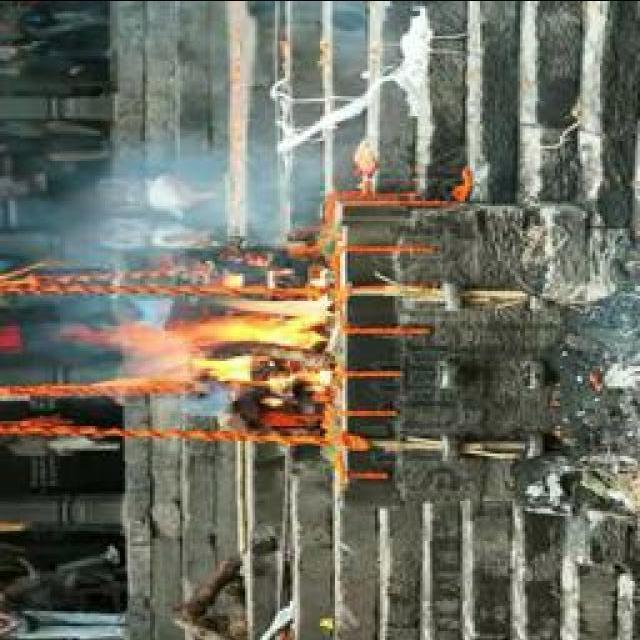Fire: (98, 292, 332, 402)
Smoke: (54, 159, 298, 243)
